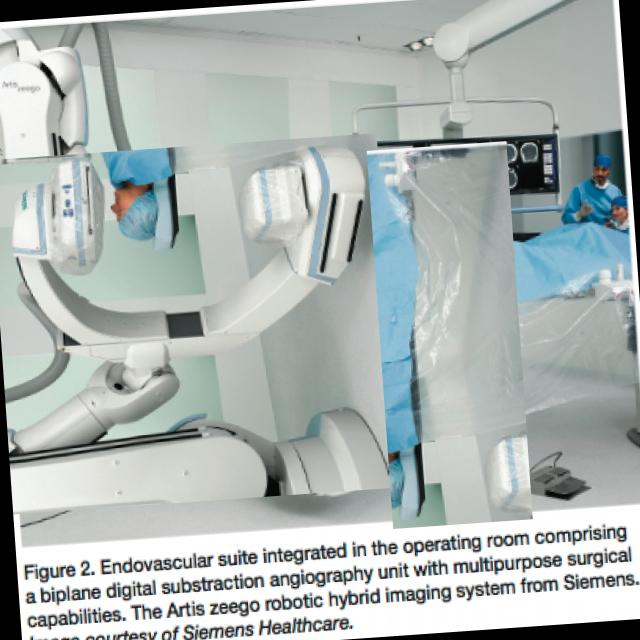Bed: (312, 197, 589, 474)
C_arm: (1, 124, 393, 524)
